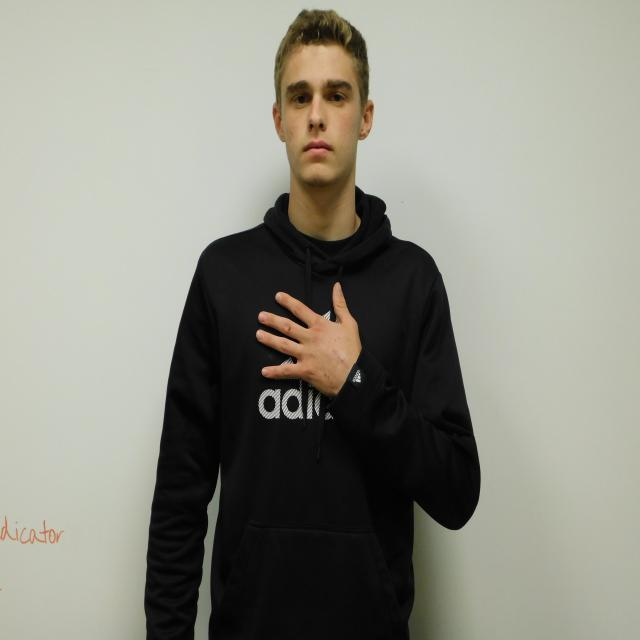like: (256, 282, 358, 394)
